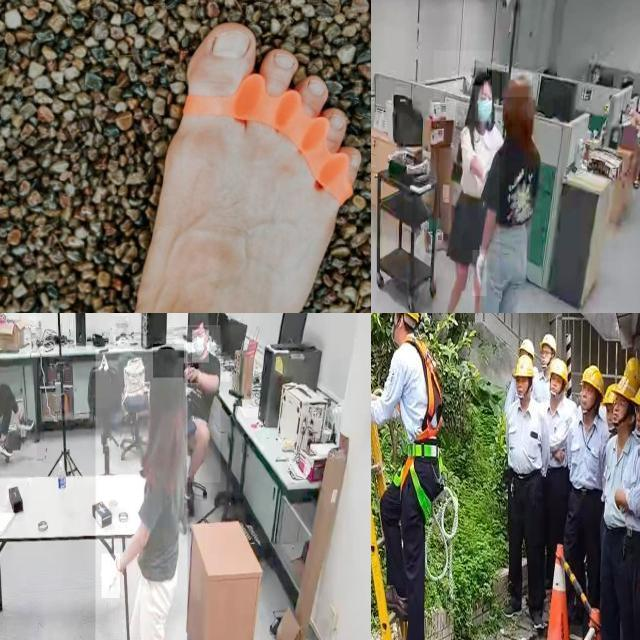Harness: (390, 337, 450, 536)
face_mask: (475, 87, 492, 121), (192, 330, 209, 362)
hand_glove: (102, 553, 120, 599), (473, 250, 487, 297)
hand_noglove: (183, 363, 199, 384)
head_nohelmet: (153, 344, 185, 378), (502, 73, 532, 98), (471, 68, 493, 86), (189, 313, 208, 328)
person: (95, 349, 188, 640), (434, 64, 537, 313), (434, 50, 499, 313), (0, 313, 37, 463), (186, 325, 221, 483), (632, 71, 640, 185)
